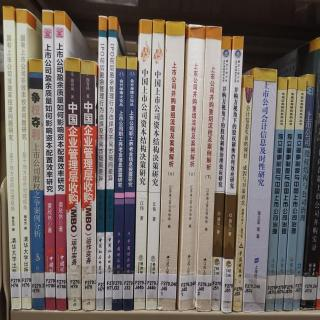book-spine: (155, 22, 186, 312), (242, 67, 278, 315), (177, 24, 207, 312), (194, 25, 222, 311), (289, 72, 317, 310), (230, 75, 256, 312), (132, 19, 153, 311), (2, 6, 22, 310), (209, 35, 231, 311), (274, 77, 299, 313), (283, 78, 308, 312), (222, 36, 243, 314), (14, 9, 33, 309), (145, 21, 164, 310), (51, 11, 68, 311), (266, 76, 287, 311), (28, 55, 46, 311), (40, 9, 55, 310), (79, 60, 96, 310), (103, 17, 117, 310), (65, 57, 81, 310), (96, 13, 109, 310), (111, 56, 126, 310), (122, 57, 137, 311)
